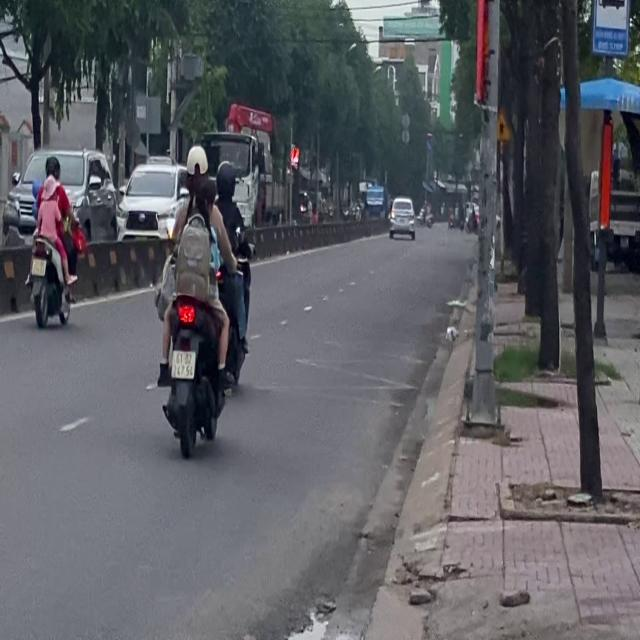helmet: (184, 144, 208, 183), (214, 159, 235, 198), (44, 154, 60, 180)
licenseplate: (154, 140, 240, 456), (28, 152, 76, 328)
motorcyclist: (193, 177, 217, 224), (42, 175, 60, 202)
nohelmet: (171, 351, 196, 379), (31, 258, 45, 274)
